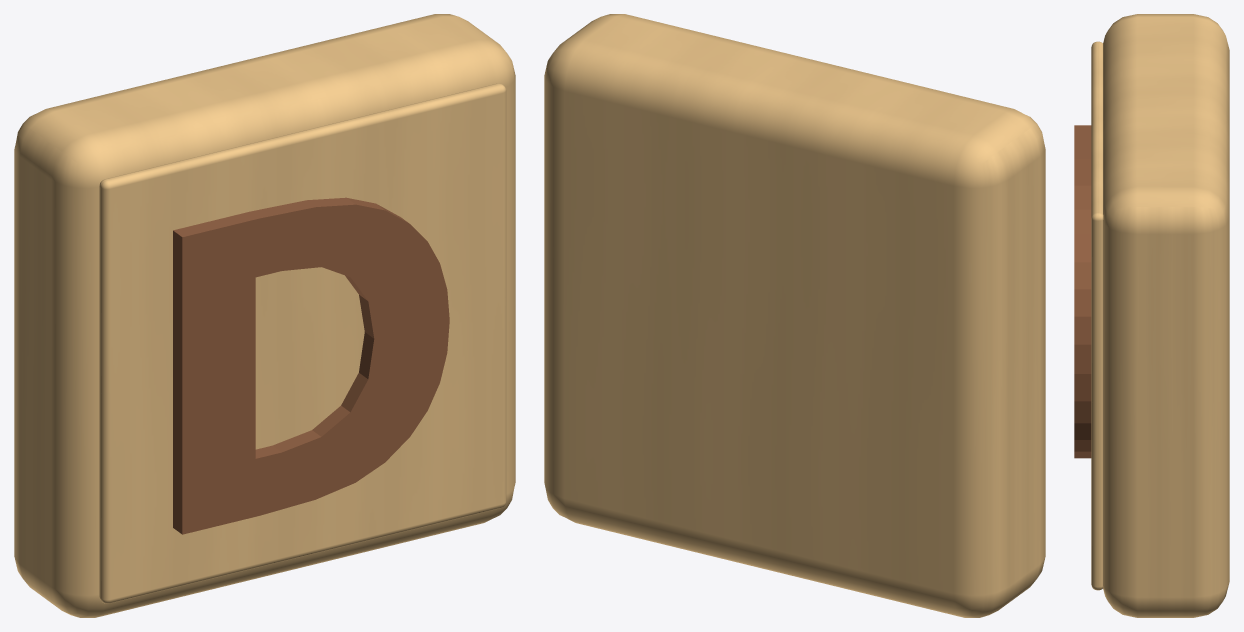
3 views of the same model, side by side, from view 1: azimuth 30°, elevation 25°; view 2: azimuth 150°, elevation 25°; view 3: azimuth 270°, elevation 25° (orthographic). The views are drawn at different scales.
Parts seen in each view (by area): view 1: Tile_D; view 2: Tile_D; view 3: Tile_D.
Part boxes in pixels (x1=…): Tile_D: x1=14, y1=14, x2=515, y2=617; Tile_D: x1=544, y1=14, x2=1045, y2=617; Tile_D: x1=1074, y1=14, x2=1229, y2=617.
Size of the model in its own units: 0.21 by 0.21 by 0.069.
2 materials, 1 textured.
